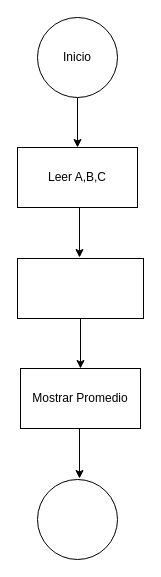
This 161x577 diagram has some shape labels left out. Each missing label, with the box of its shape:
Fin: (36, 478, 118, 560)
Promedio = A + B + C: (16, 258, 144, 318)
